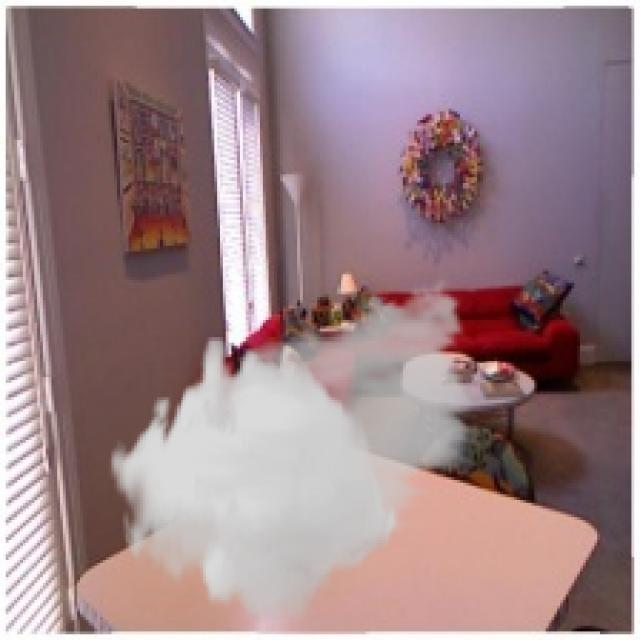Smoke: (108, 272, 486, 622)
